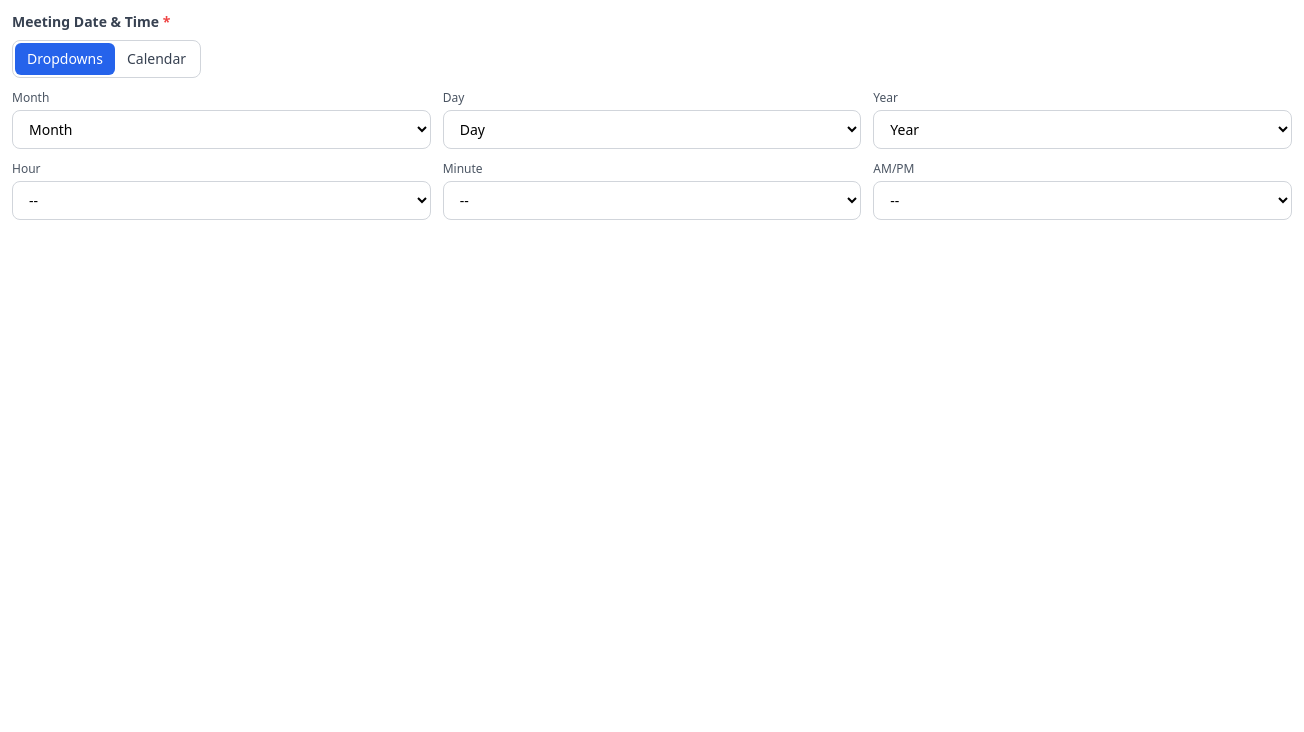
Test: picking a day fills the same month, day and year the dropdowns use
The image size is (1304, 732).
Click the button "Calendar" at (157,59), box [115,43,198,75]
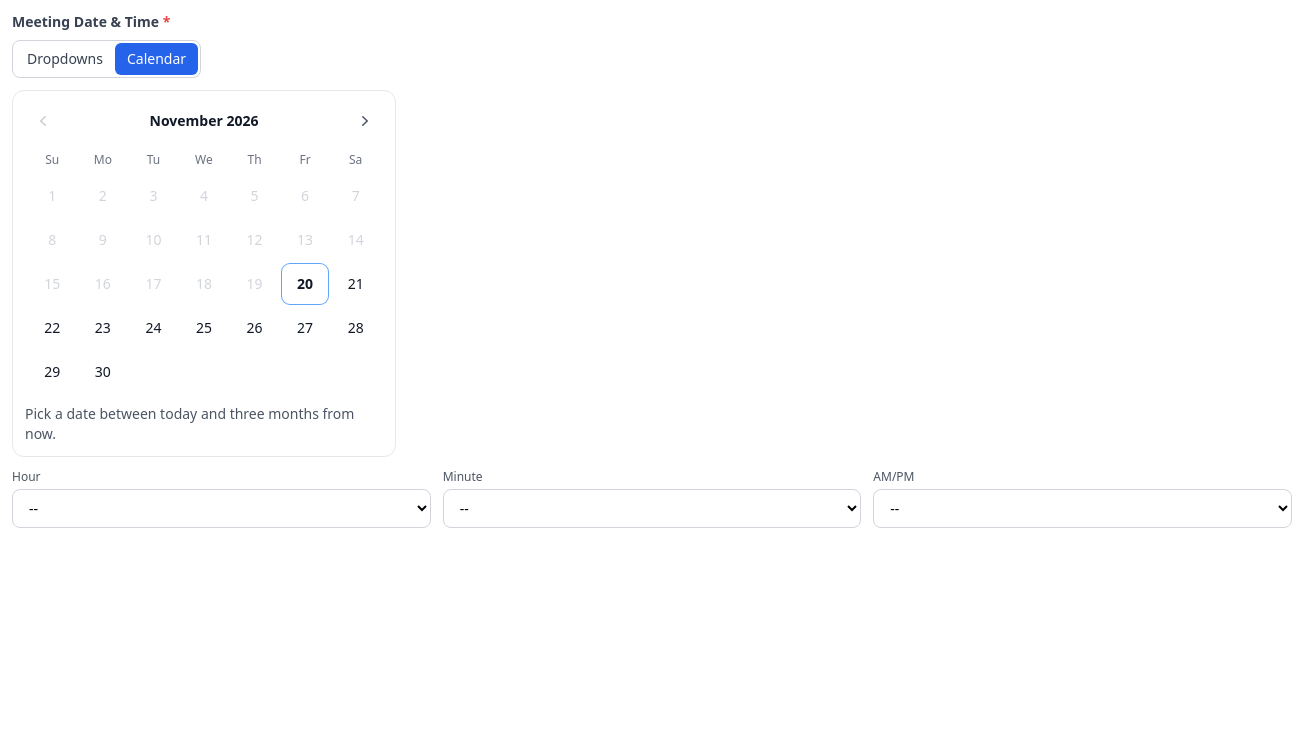
Click the button named "Next month" at (365,121), box [347,103,383,139]
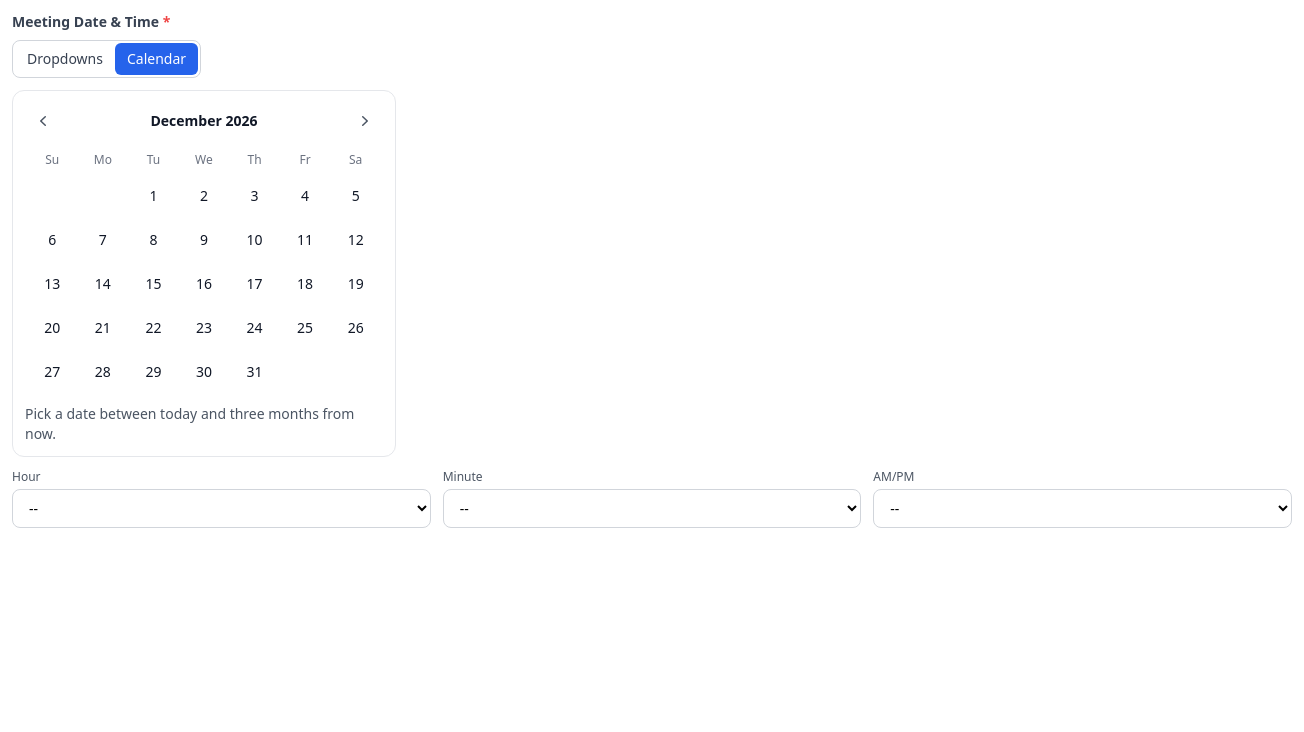
Click the button named "Saturday, December 5, 2026" at (356,196), box [332,176,379,216]
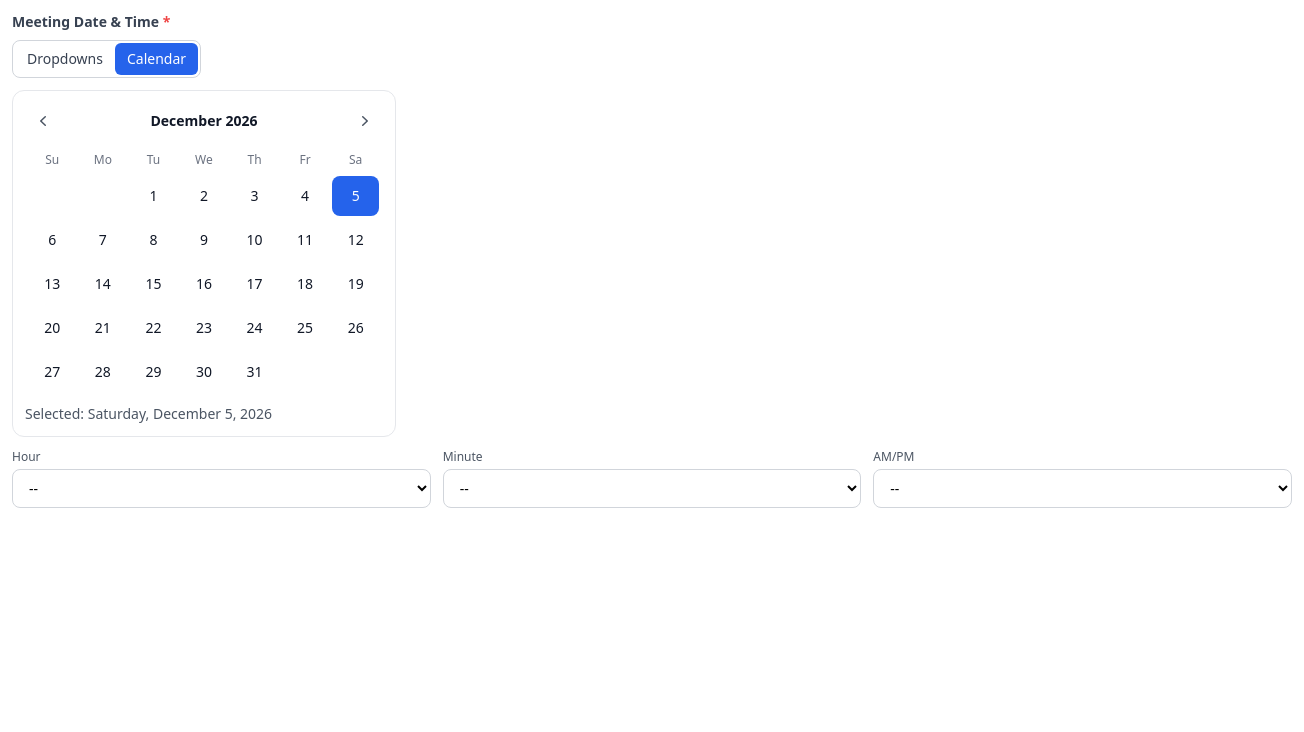
Now the text "Selected: Saturday, December 5, 2026" is shown, box [25,404,272,423]
Click the button "Dropdowns" at (65,59), box [15,43,115,75]
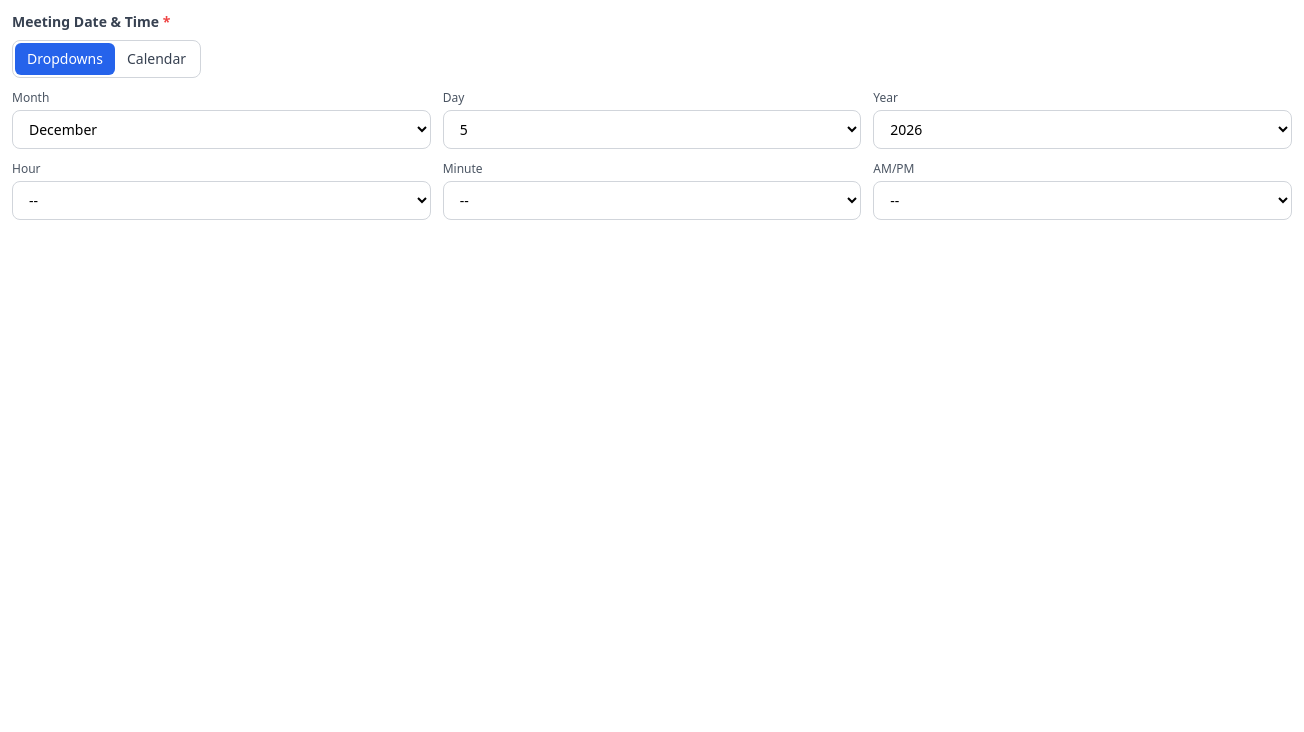
Now the dropdown labelled "Month" shows "December", box [12,110,431,149]
Now the dropdown labelled "Day" shows "5", box [443,110,861,149]
Now the dropdown labelled "Year" shows "2026", box [873,110,1292,149]
